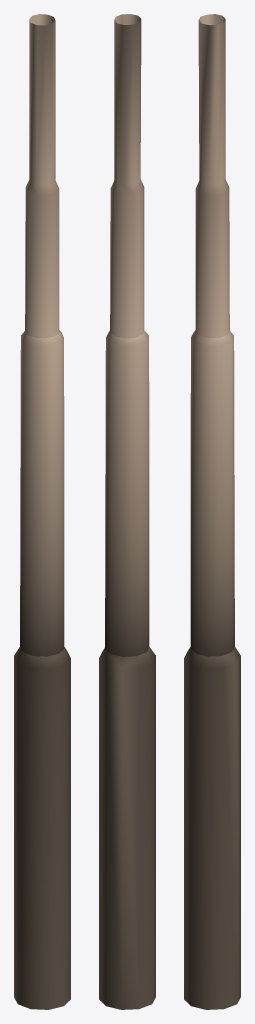
The model's file is StomperPiston.fbx.
The picture shows the model from 3 angles, left to right: view 1: azimuth 30°, elevation 25°; view 2: azimuth 150°, elevation 25°; view 3: azimuth 330°, elevation 25°; orthographic projection.
Parts seen in each view (by area): view 1: StomperPiston; view 2: StomperPiston; view 3: StomperPiston.
Boxes of the visible parts, x1=… form: StomperPiston: x1=14, y1=14, x2=70, y2=1009; StomperPiston: x1=99, y1=14, x2=155, y2=1009; StomperPiston: x1=184, y1=14, x2=240, y2=1009.
Size of the model in its own units: 52.64 by 992 by 50.06.
